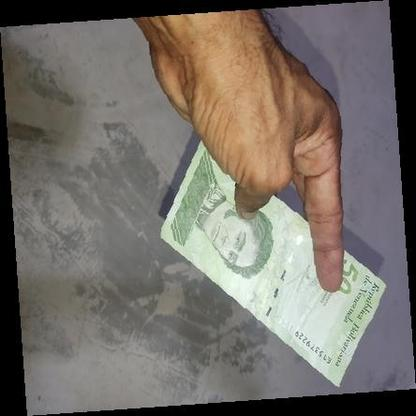fifty-front-vef: (159, 137, 387, 387)
